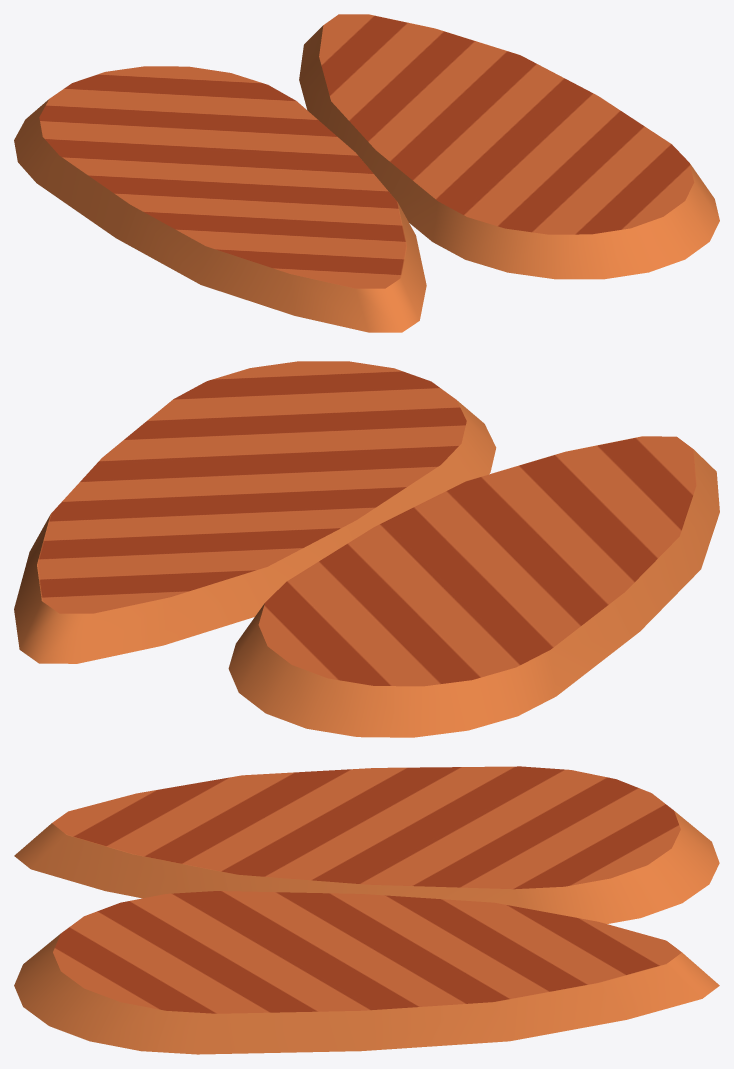
Rendered from Chicken_Slice.glb.
The picture shows the model from 3 angles, top to bottom: view 1: azimuth 30°, elevation 25°; view 2: azimuth 150°, elevation 25°; view 3: azimuth 270°, elevation 25°; orthographic projection. The views are drawn at different scales.
Parts seen in each view (by area): view 1: Chicken_Slice; view 2: Chicken_Slice; view 3: Chicken_Slice.
Part boxes in pixels (box(x1,y1,x2,y2)): Chicken_Slice: box(14, 14, 719, 332); Chicken_Slice: box(14, 361, 719, 737); Chicken_Slice: box(14, 766, 719, 1054).
Size of the model in its own units: 16.91 by 1 by 19.25.
1 material, 1 textured.
